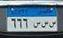6: (23, 17, 28, 28), (17, 18, 22, 28), (11, 18, 16, 28)
seen: (49, 20, 57, 28), (41, 21, 48, 29), (33, 22, 40, 29)
